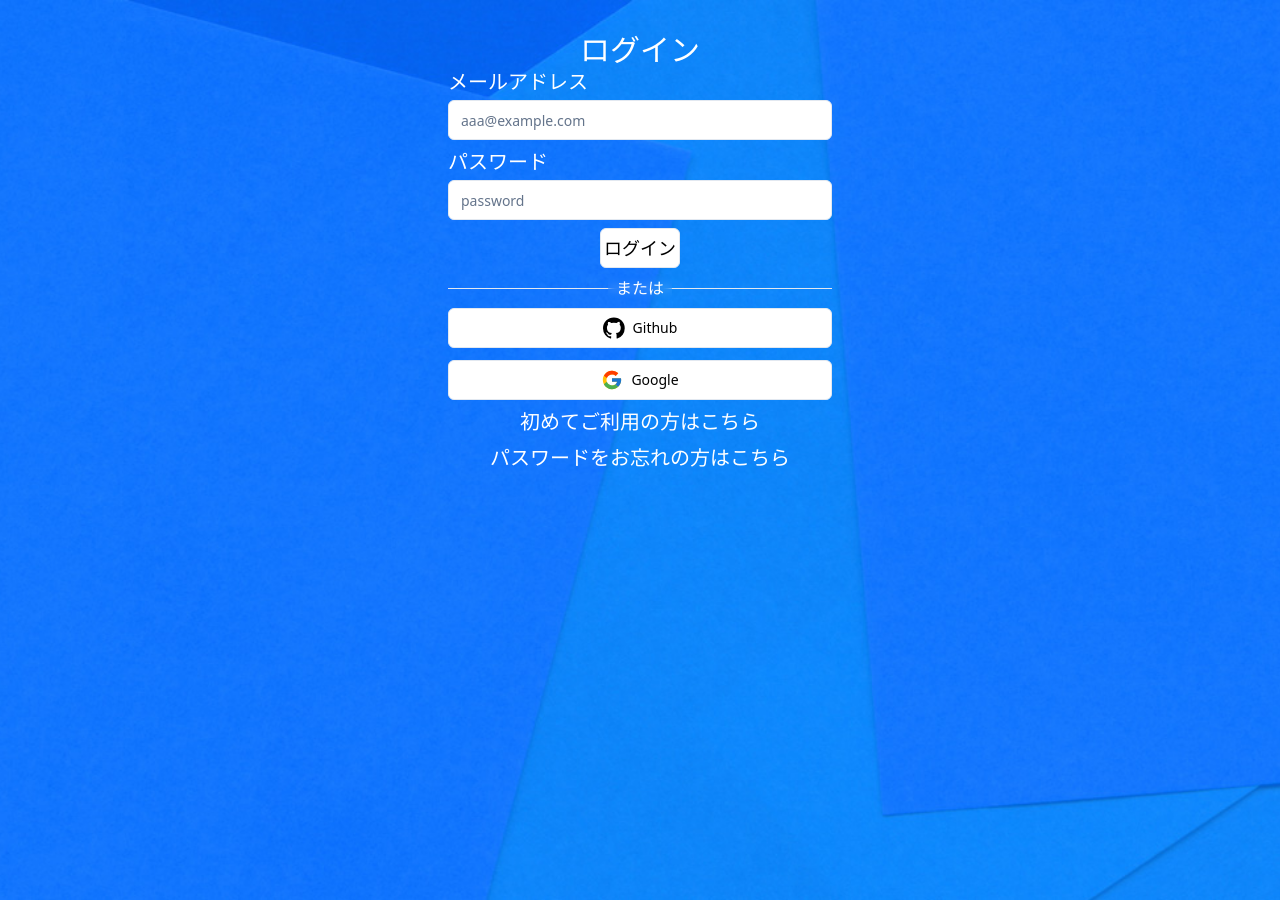
Test case: ログインページ › 無効な認証情報でログインするとエラーメッセージが表示される
This screenshot has width=1280, height=900.
Step 1. Type "wrong@example.com" into the field labelled "メールアドレス" → (640, 120), box [448,100,832,140]
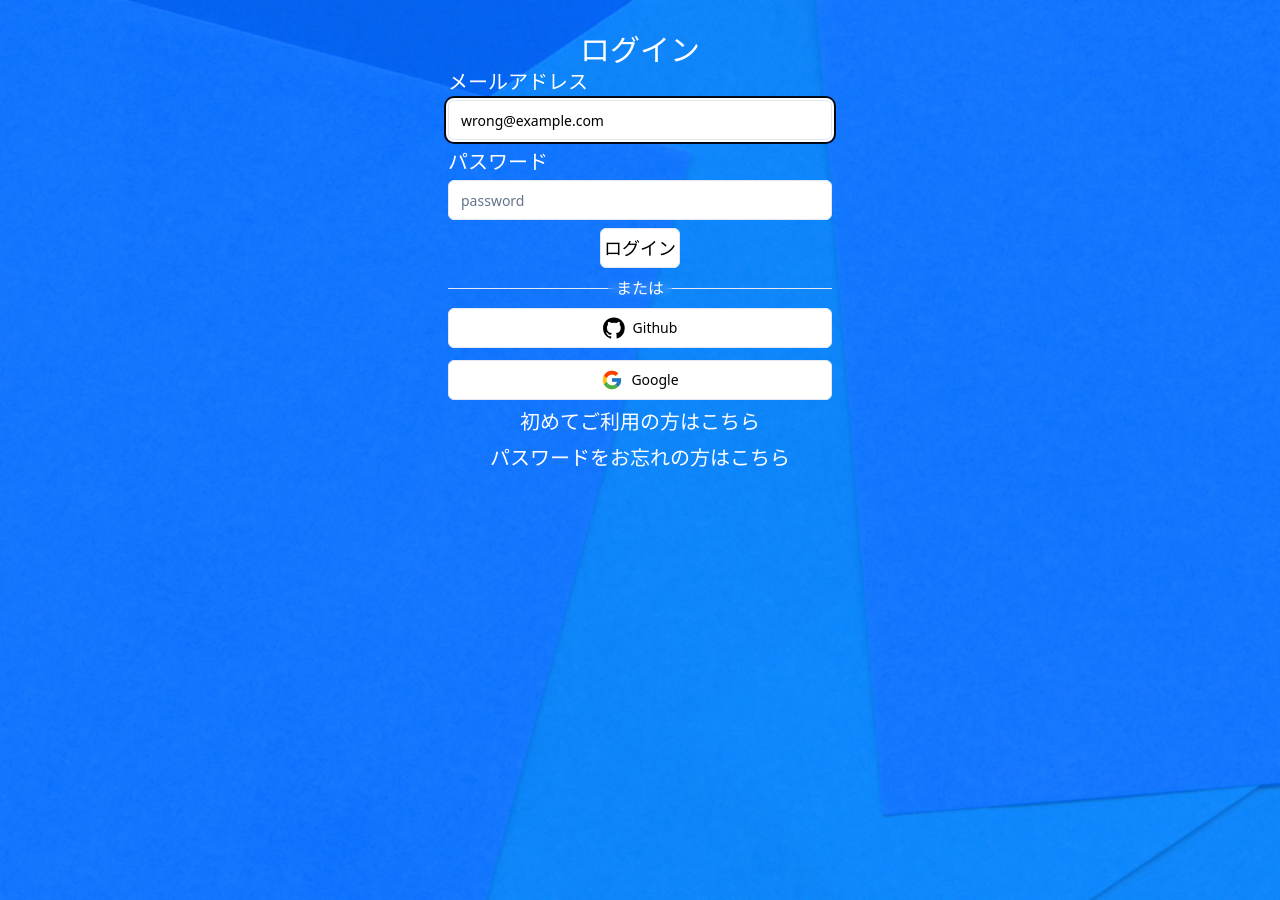
Step 2. Type "wrongPassword" into the password field labelled "パスワード" → (640, 200), box [448,180,832,220]
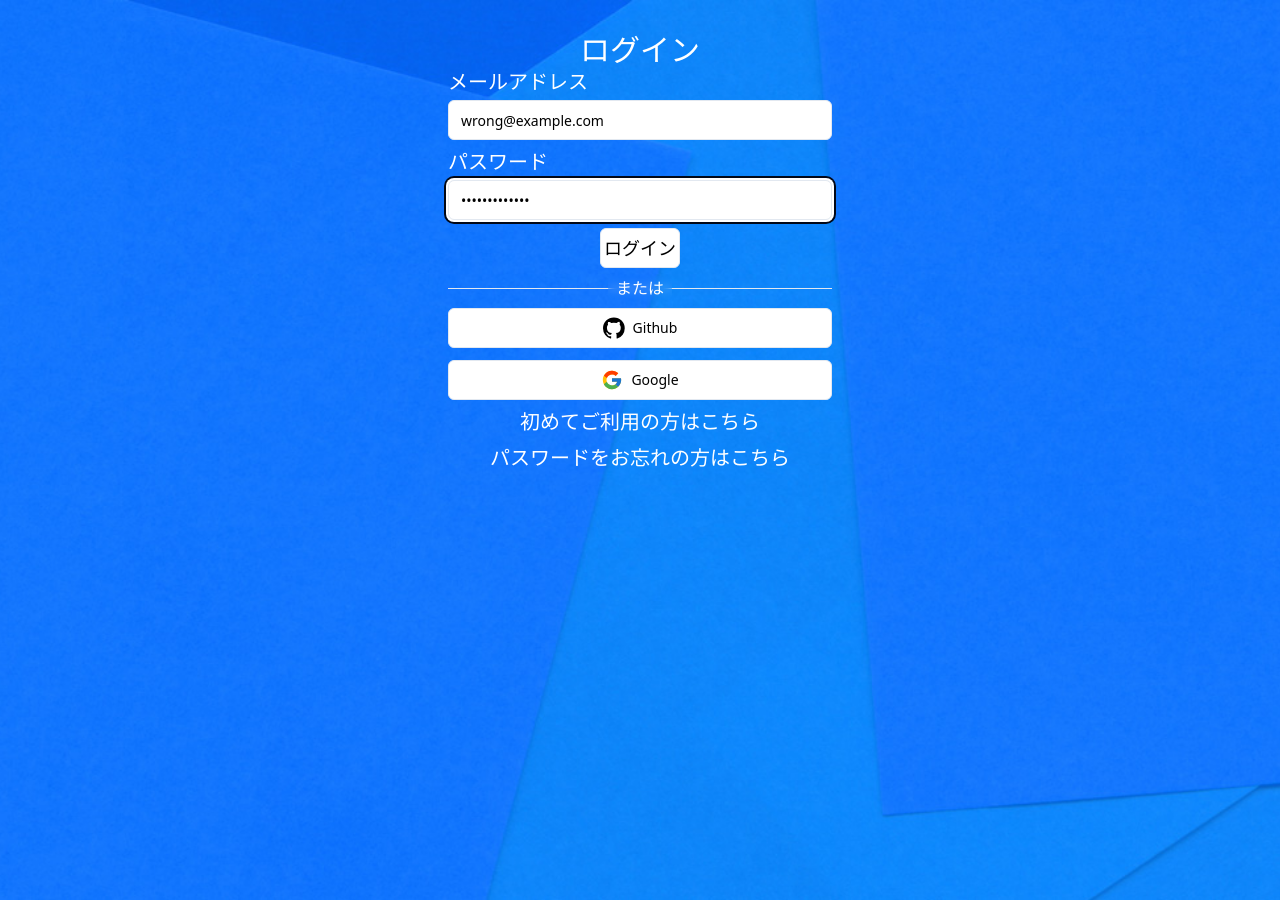
Step 3. Click the button "ログイン" → (640, 248), box [600,228,680,268]
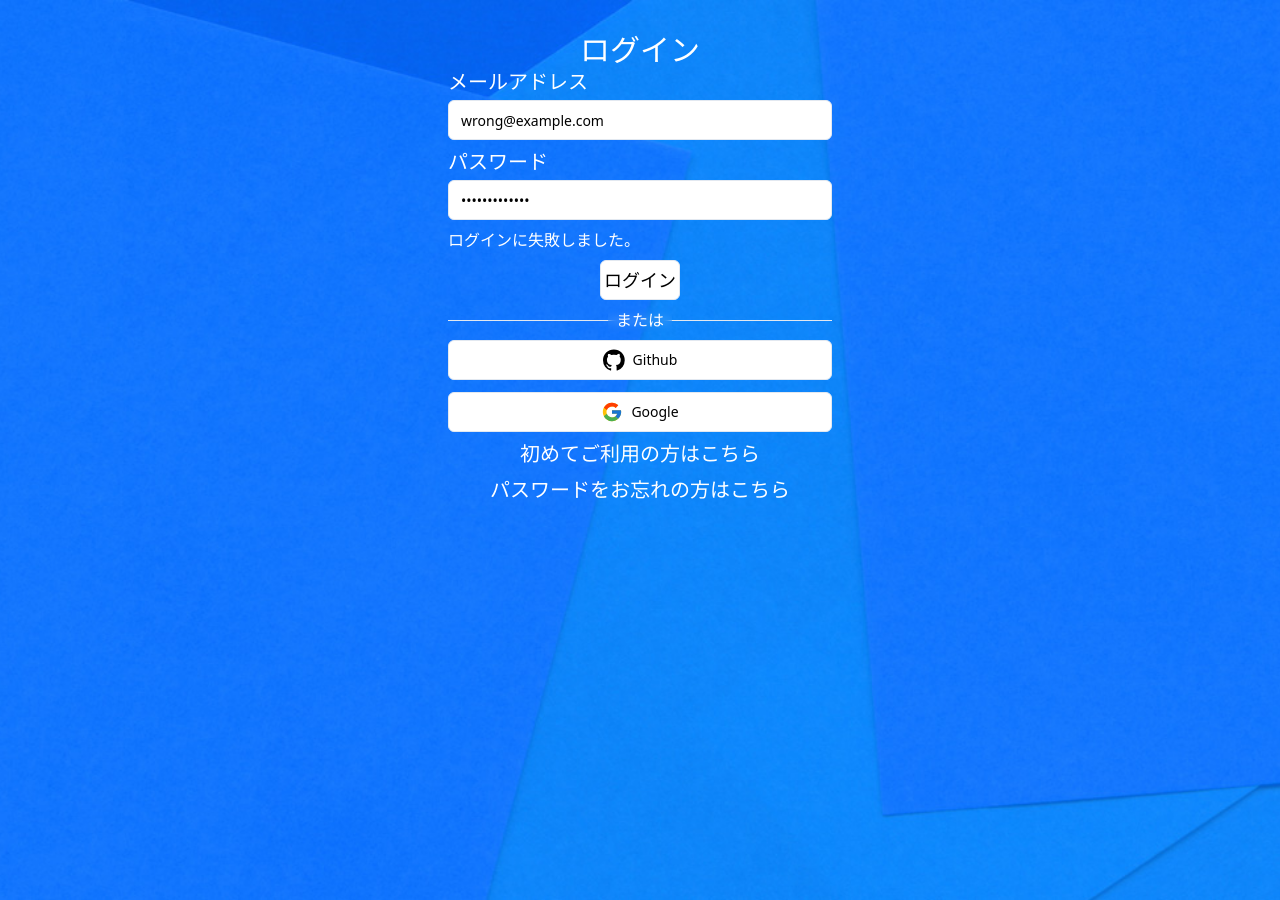
Now the text "ログインに失敗しました。" is shown, box [448,229,640,251]
